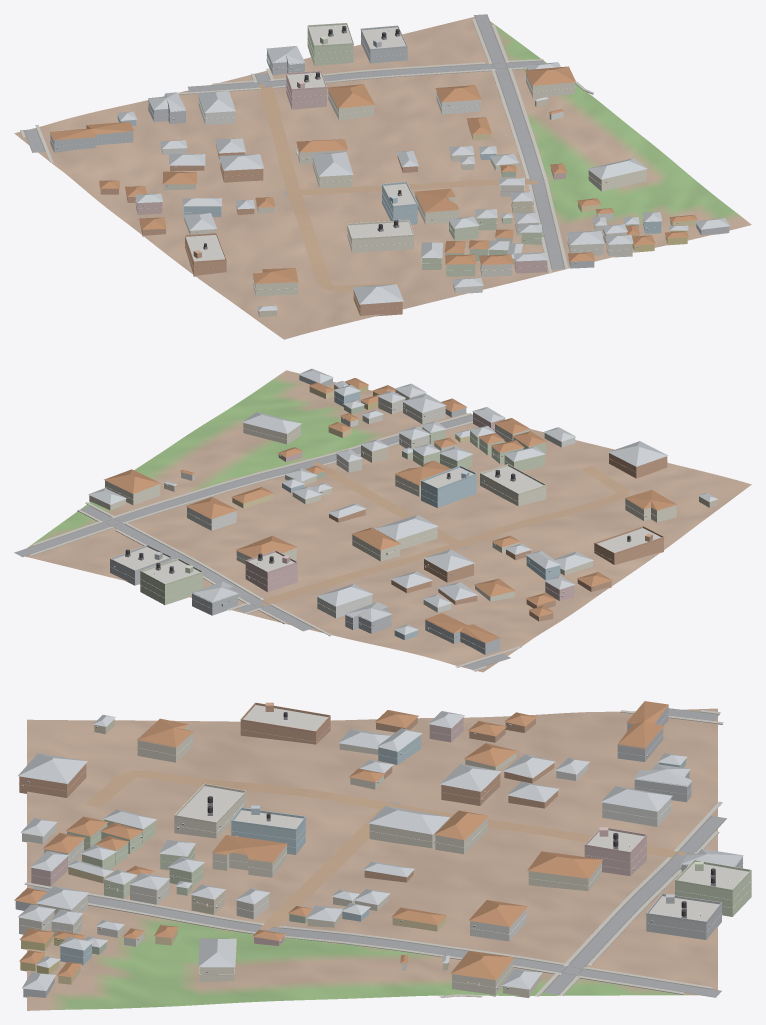
3 views of the same model, one above another, from view 1: azimuth 30°, elevation 25°; view 2: azimuth 150°, elevation 25°; view 3: azimuth 270°, elevation 25° (orthographic). The views are drawn at different scales.
Visible parts, largest first — view 1: Terrain-col, Buildings-col, Roads-col, Details, Sidewalks-col; view 2: Terrain-col, Buildings-col, Roads-col, Details, Sidewalks-col; view 3: Terrain-col, Buildings-col, Roads-col, Details, Sidewalks-col.
Boxes of the visible parts, left/top/right/bottom form: Terrain-col: left=14, top=17, right=751, bottom=339; Buildings-col: left=49, top=24, right=729, bottom=316; Roads-col: left=23, top=14, right=565, bottom=291; Details: left=50, top=23, right=704, bottom=310; Sidewalks-col: left=20, top=18, right=593, bottom=273; Terrain-col: left=25, top=370, right=751, bottom=672; Buildings-col: left=88, top=368, right=717, bottom=654; Roads-col: left=14, top=414, right=629, bottom=670; Details: left=105, top=393, right=676, bottom=649; Sidewalks-col: left=30, top=413, right=521, bottom=671; Terrain-col: left=27, top=708, right=717, bottom=1010; Buildings-col: left=14, top=701, right=751, bottom=997; Roads-col: left=32, top=708, right=726, bottom=997; Details: left=19, top=702, right=751, bottom=989; Sidewalks-col: left=24, top=710, right=723, bottom=998.
Bounding box in the file's own units: 261 × 20.49 × 273.
